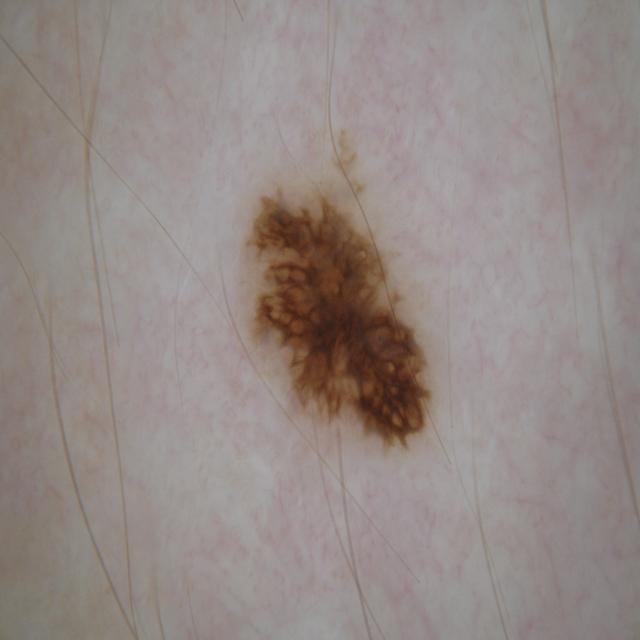Skin-Cancer Nevus: (49, 54, 585, 598)
